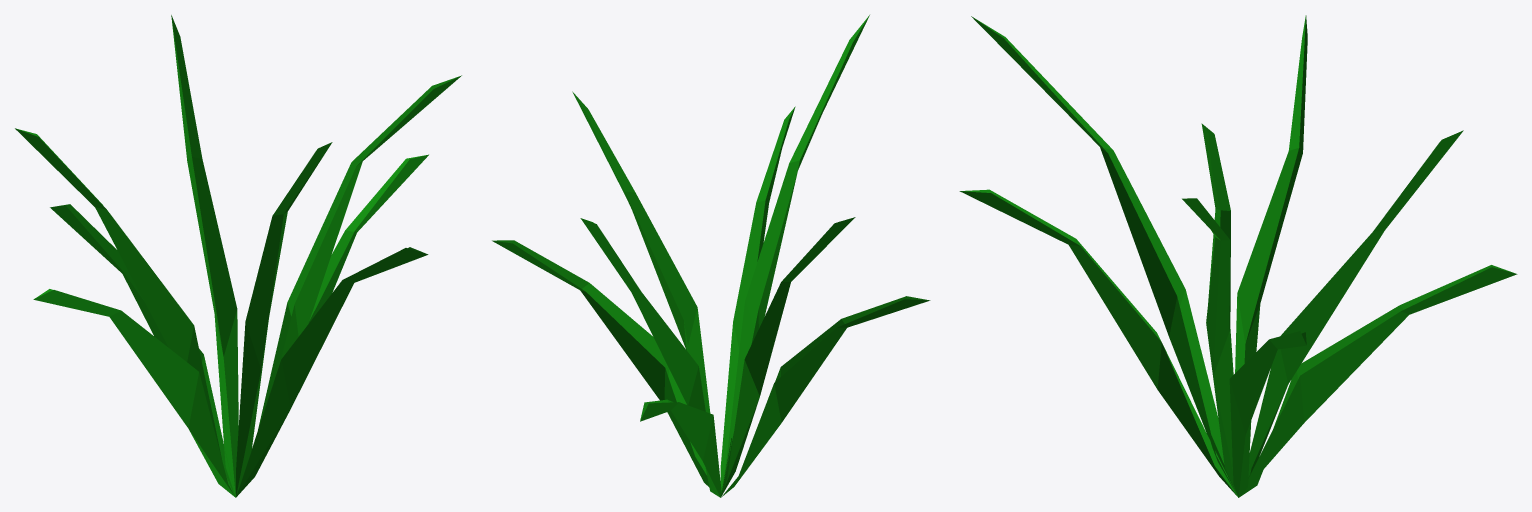
The model's file is grass 1.glb.
3 renders of one model, left to right at view 1: azimuth 30°, elevation 25°; view 2: azimuth 150°, elevation 25°; view 3: azimuth 270°, elevation 25°, orthographic. The views are drawn at different scales.
Parts seen in each view (by area): view 1: Plane.009; view 2: Plane.009; view 3: Plane.009.
Boxes of the visible parts, x1,y1,x2,y2 form: Plane.009: (15, 15, 461, 497); Plane.009: (492, 15, 930, 497); Plane.009: (959, 15, 1517, 497).
Size of the model in its own units: 2.54 by 2.51 by 2.73.
